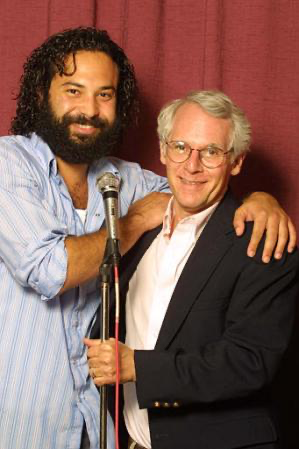Face: (157, 121, 236, 211), (55, 72, 119, 167)
